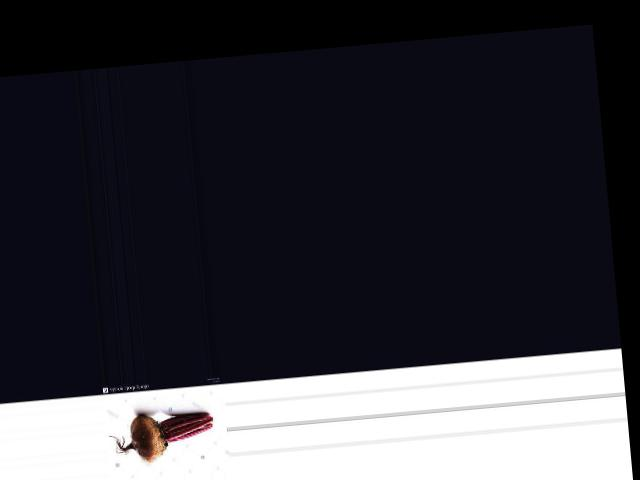beet: (108, 408, 216, 465)
